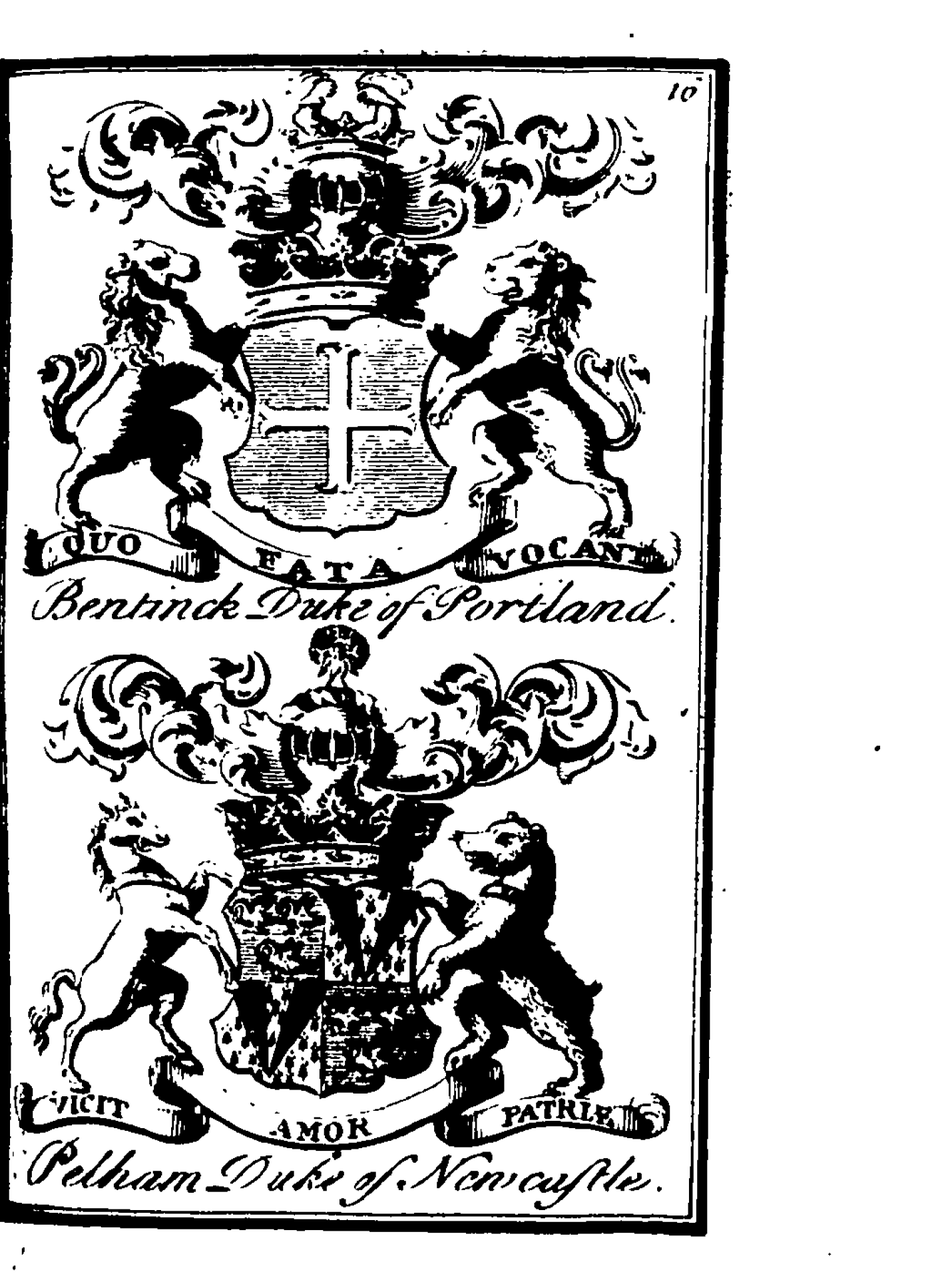coat_of_arms: (10, 73, 688, 639), (10, 637, 668, 1205)
